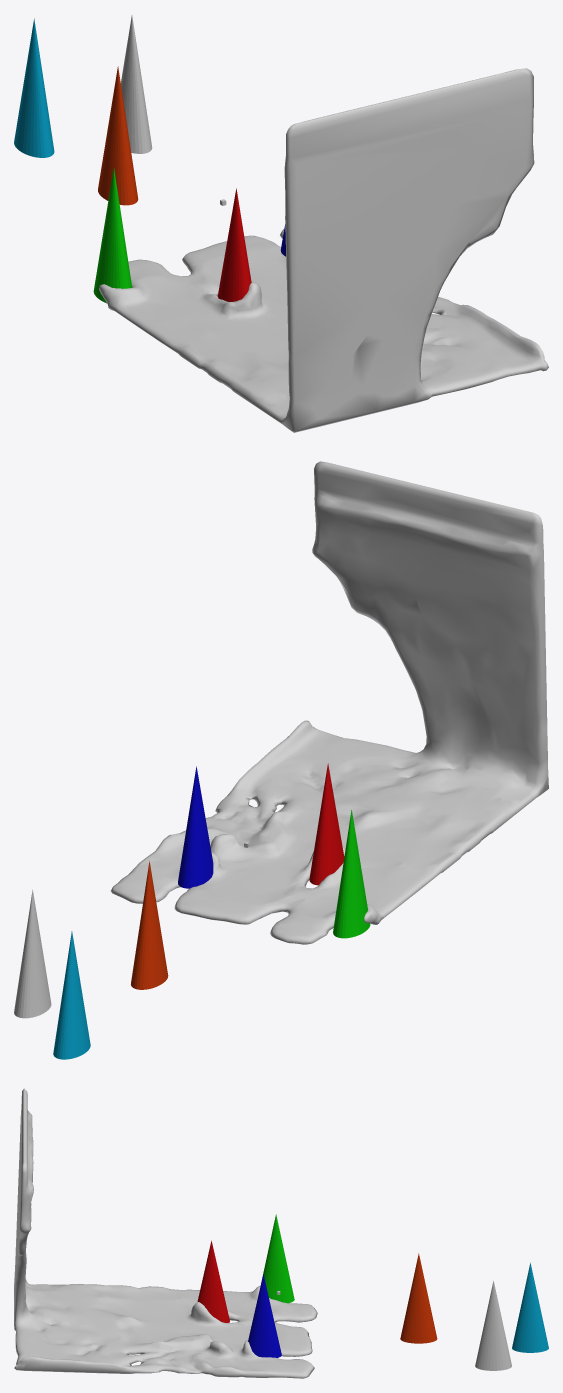
The picture shows the model from 3 angles, top to bottom: view 1: azimuth 30°, elevation 25°; view 2: azimuth 150°, elevation 25°; view 3: azimuth 270°, elevation 25°; orthographic projection. The views are drawn at different scales.
Visible parts, largest first — view 1: Liquid_Domain, 円錐.005, 円錐.004, 円錐.003, 円錐, 円錐.001; view 2: Liquid_Domain, 円錐.005, 円錐, 円錐.004, 円錐.003, 円錐.002, 円錐.001; view 3: Liquid_Domain, 円錐.004, 円錐.005, 円錐, 円錐.002, 円錐.003, 円錐.001.
Boxes of the visible parts, bbox=[...] form: Liquid_Domain: bbox=[99, 68, 548, 432]; 円錐.005: bbox=[14, 18, 54, 157]; 円錐.004: bbox=[98, 66, 138, 205]; 円錐.003: bbox=[93, 167, 132, 303]; 円錐: bbox=[120, 15, 152, 153]; 円錐.001: bbox=[217, 188, 251, 301]; Liquid_Domain: bbox=[110, 461, 548, 944]; 円錐.005: bbox=[53, 931, 90, 1059]; 円錐: bbox=[14, 890, 51, 1018]; 円錐.004: bbox=[131, 861, 168, 989]; 円錐.003: bbox=[333, 810, 370, 938]; 円錐.002: bbox=[178, 766, 213, 888]; 円錐.001: bbox=[309, 763, 344, 885]; Liquid_Domain: bbox=[14, 1088, 317, 1378]; 円錐.004: bbox=[400, 1253, 437, 1343]; 円錐.005: bbox=[512, 1262, 548, 1352]; 円錐: bbox=[475, 1281, 511, 1370]; 円錐.002: bbox=[248, 1274, 281, 1357]; 円錐.003: bbox=[262, 1214, 294, 1303]; 円錐.001: bbox=[197, 1240, 229, 1322].
Bounding box in the file's own units: 129 × 158 × 347.
